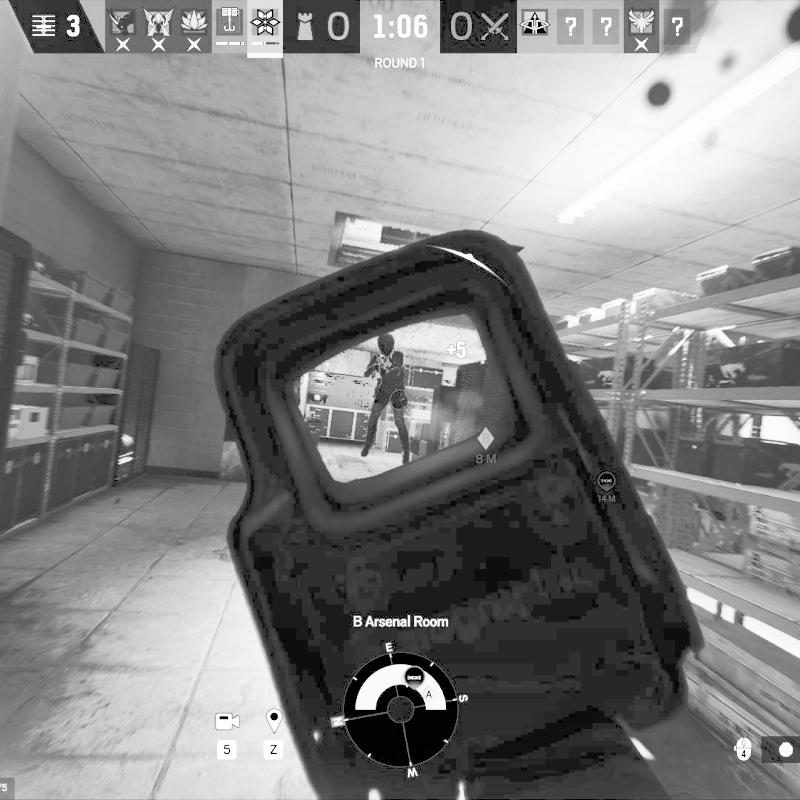Character: (360, 332, 410, 465)
Head: (377, 332, 395, 358)
